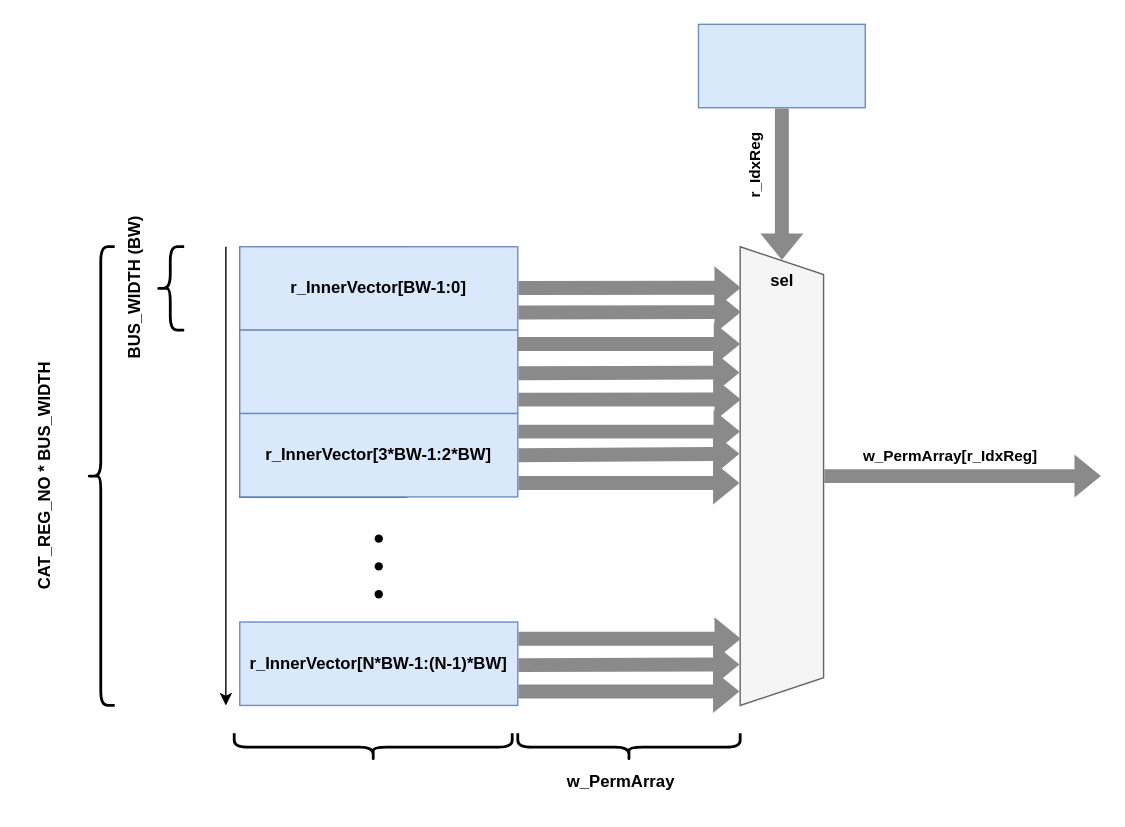
The diagram is 1125 pixels wide and 827 high, and some of its shapes have lost their labels. Here are the shapes that lost their labels. From the top down, the centre of each, then its label:
[781,65]: IDX_REG
[378,371]: r_InnerVector[2*BW-1:BW]
[372,746]: INPUT_SHIFTREGISTER
